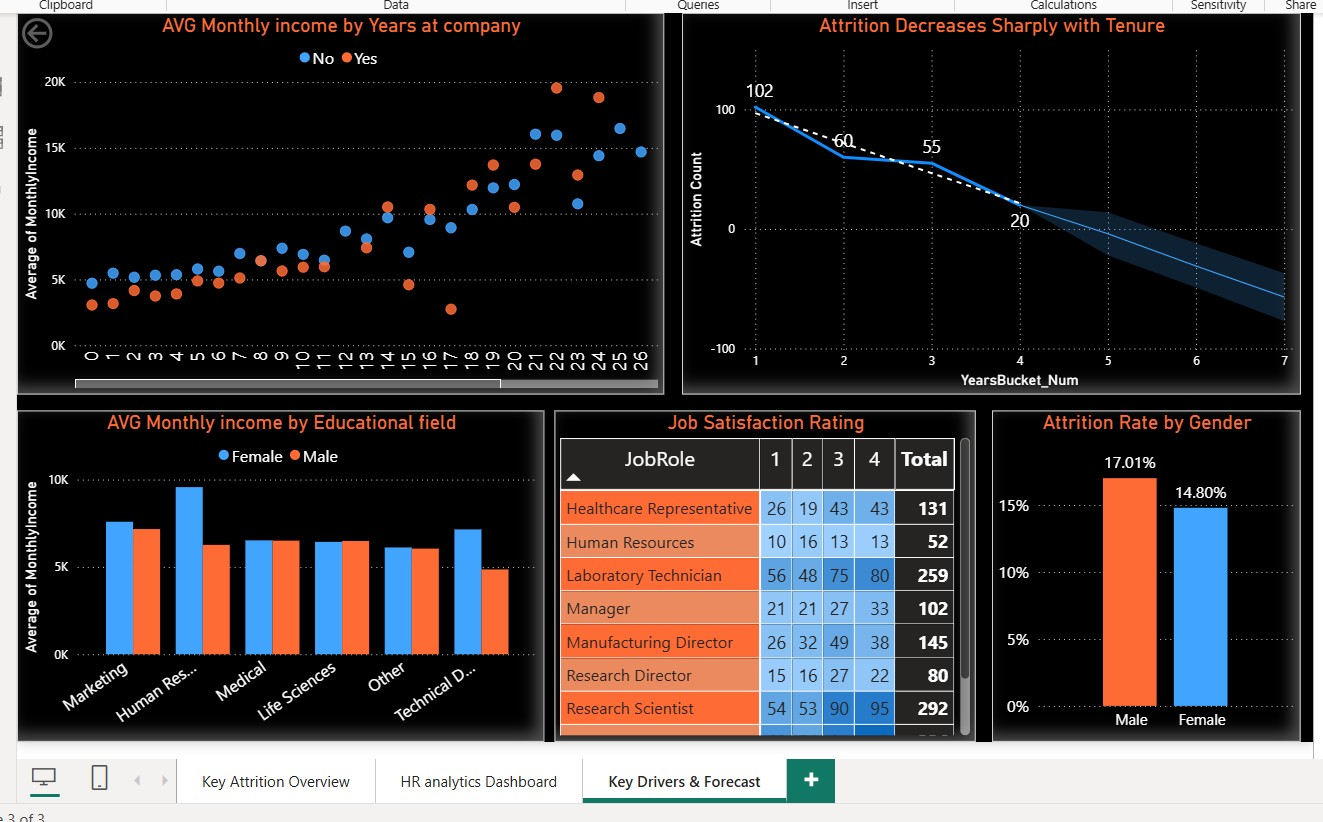

This screenshot's page, from the dashboard's own definition file:
{"tool":"powerbi","page":{"name":"Detailed Attrition Breakdown","canvas":[1280,720],"ordinal":2},"visuals":[{"type":"scatterChart","title":"AVG Monthly income by Years at company","fields":{"Series":["HR_Employee_dataset.Attrition"],"X":["HR_Employee_dataset.YearsAtCompany"],"Y":["Avg(HR_Employee_dataset.MonthlyIncome)"]},"box":[0,0,639.5,376.5],"z":0},{"type":"pivotTable","title":"Job Satisfaction Rating","fields":{"Rows":["HR_Employee_dataset.JobRole"],"Columns":["HR_Employee_dataset.JobSatisfaction"],"Values":["Sum(HR_Employee_dataset.EmployeeCount)"]},"box":[530.8,392.1,416.2,326.9],"z":1000},{"type":"clusteredColumnChart","title":"AVG Monthly income by Educational field","fields":{"Series":["HR_Employee_dataset.Gender"],"Y":["Avg(HR_Employee_dataset.MonthlyIncome)"],"Category":["HR_Employee_dataset.EducationField"]},"box":[0,392.6,521,327.2],"z":2000},{"type":"actionButton","box":[0,0,100,40],"z":3000},{"type":"clusteredColumnChart","title":" Attrition Rate by Gender","fields":{"Category":["HR_Employee_dataset.Gender"],"Y":["HR_Employee_dataset.Attrition Rate"]},"box":[963,392.6,304.9,327.2],"z":4000},{"type":"lineChart","title":"Attrition Decreases Sharply with Tenure","fields":{"Category":["HR_Employee_dataset.YearsBucket"],"Y":["HR_Employee_dataset.Attrition Count"]},"box":[656.8,0,611.1,376.5],"z":5000}]}

Visuals, with their boxes in screenshot pixels (x1, y1, x2, y2):
"AVG Monthly income by Years at company" scatterChart: 14:7:666:391
"Job Satisfaction Rating" pivotTable: 555:407:979:740
"AVG Monthly income by Educational field" clusteredColumnChart: 14:407:545:741
actionButton: 14:7:116:48
" Attrition Rate by Gender" clusteredColumnChart: 995:407:1306:741
"Attrition Decreases Sharply with Tenure" lineChart: 683:7:1306:391
